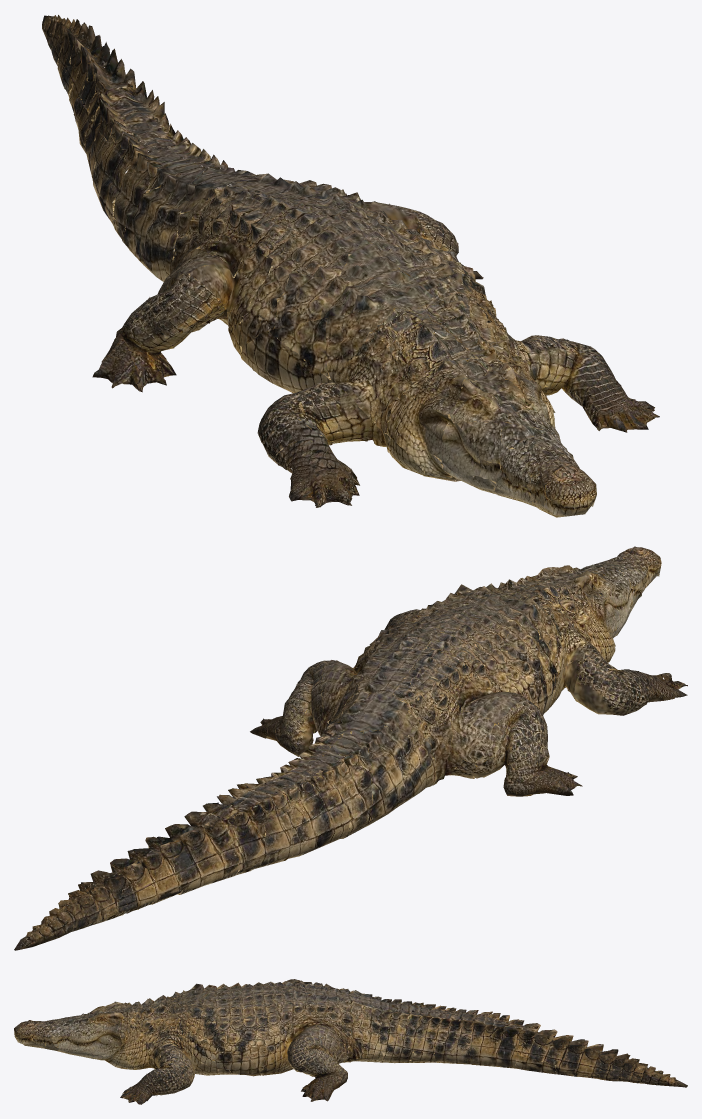
Rendered from crocodile.glb.
3 views of the same model, one above another, from view 1: azimuth 30°, elevation 25°; view 2: azimuth 150°, elevation 25°; view 3: azimuth 270°, elevation 25° (orthographic). The views are drawn at different scales.
Parts seen in each view (by area): view 1: crocodile; view 2: crocodile; view 3: crocodile.
Boxes of the visible parts, x1=… form: crocodile: x1=42, y1=15, x2=659, y2=517; crocodile: x1=14, y1=546, x2=687, y2=950; crocodile: x1=14, y1=979, x2=687, y2=1104.
Size of the model in its own units: 1.53 by 0.5432 by 4.5.
Materials: 1 (1 with a texture image).
